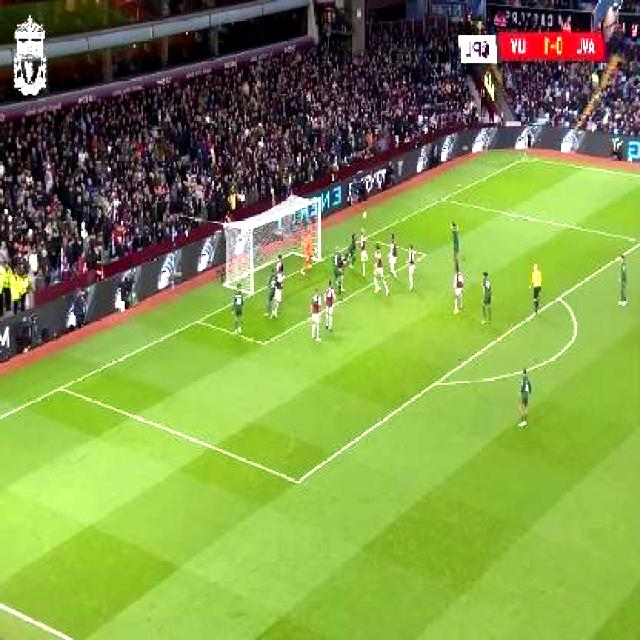bigarea_bottom_inner: (288, 464, 310, 496)
bigarea_bottom_outter: (54, 377, 69, 397)
bigarea_top_outter: (437, 189, 452, 208)
bottom_arc_area_intersection: (428, 368, 448, 395)
corner: (518, 149, 537, 165)
smallarea_bottom_inner: (255, 330, 274, 356)
smallarea_bottom_outter: (190, 308, 208, 330)
smallarea_top_inner: (417, 243, 434, 265)
smallarea_top_outter: (358, 229, 372, 248)
top_arc_area_intersection: (552, 284, 570, 308)
